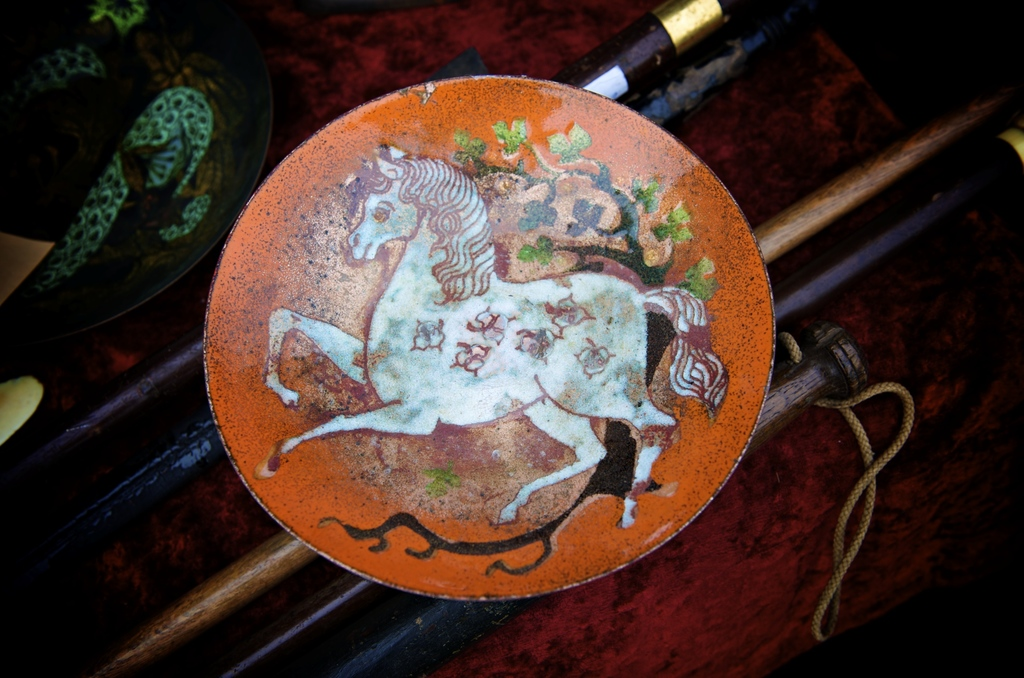plate: (202, 70, 786, 599)
